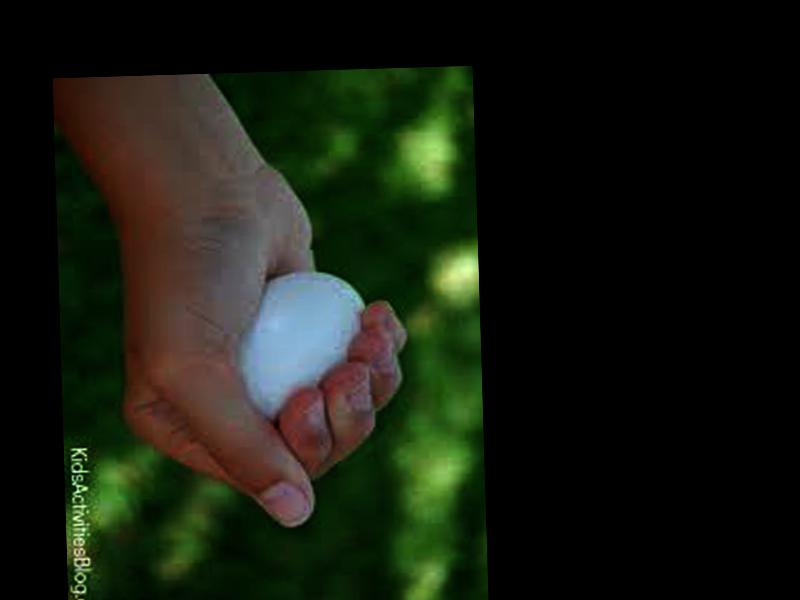Eggs: (244, 269, 367, 423)
